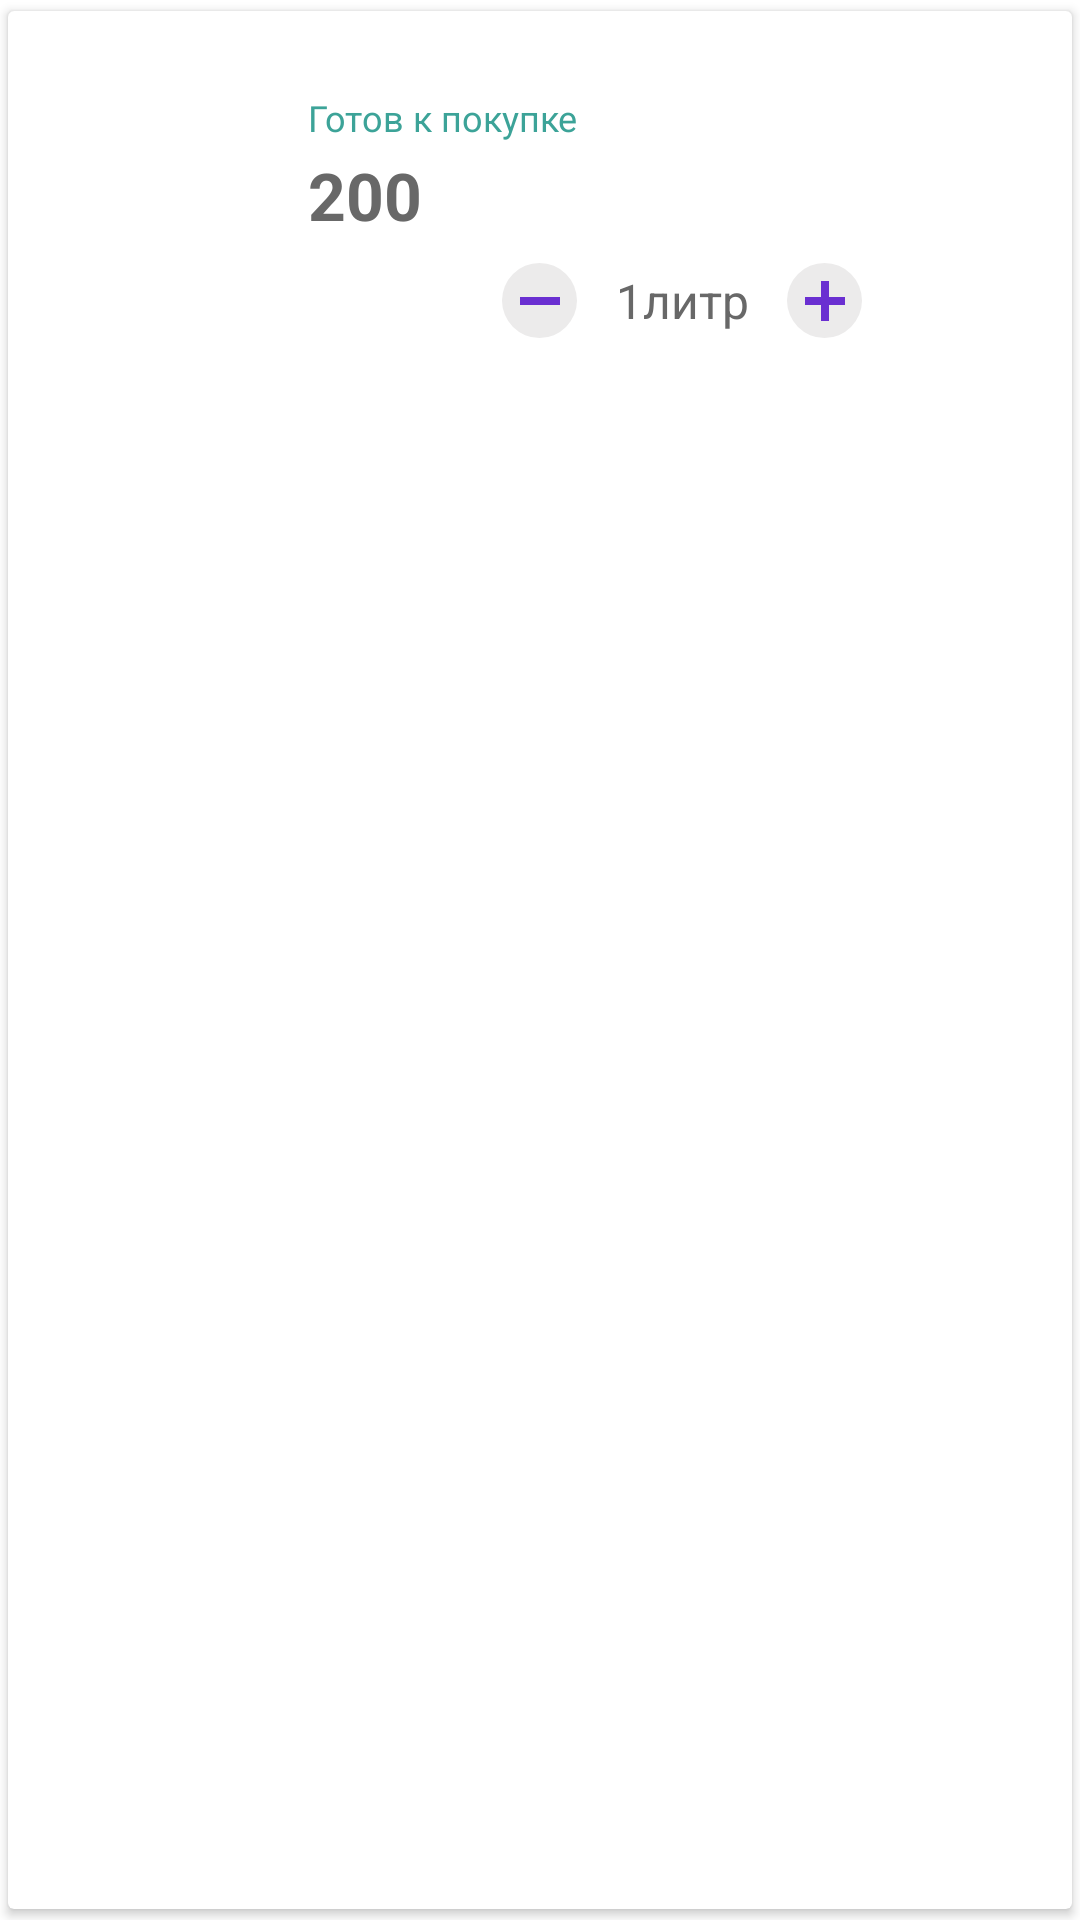

Icon bounding boxes for this 1080px x 1920px phone screenshot, format (x1, y1, x2, y2):
plus: (787, 263, 862, 338)
